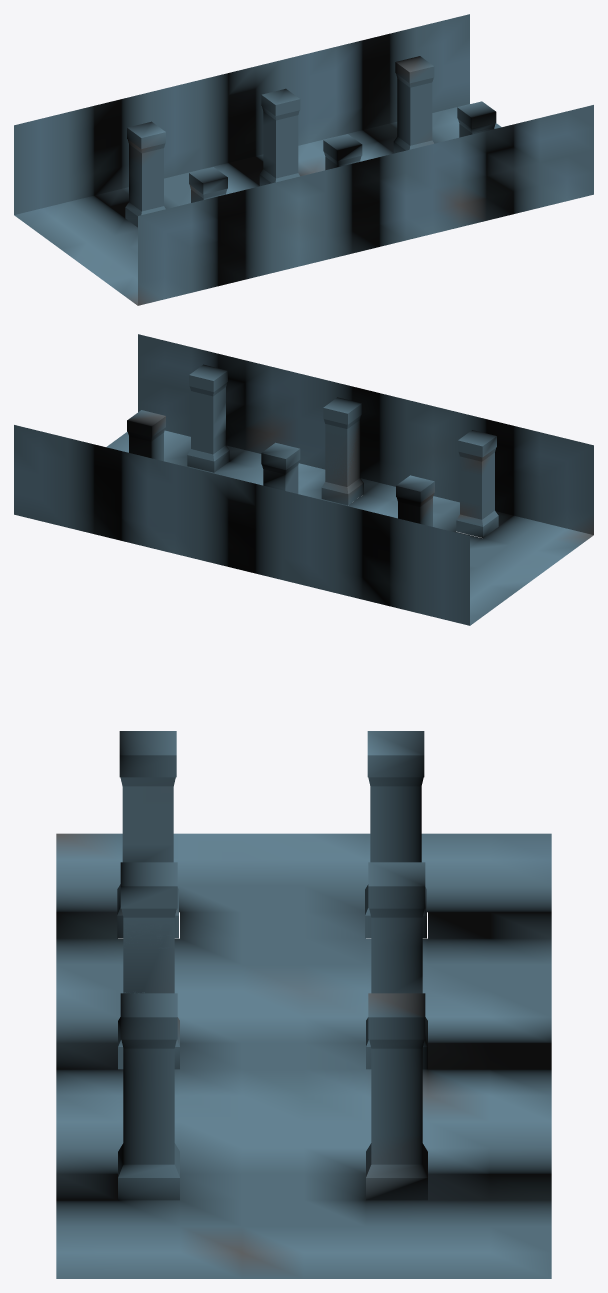
The model's file is test_hall.fbx.
3 views of the same model, one above another, from view 1: azimuth 30°, elevation 25°; view 2: azimuth 150°, elevation 25°; view 3: azimuth 270°, elevation 25° (orthographic). The views are drawn at different scales.
Parts seen in each view (by area): view 1: Grid; view 2: Grid; view 3: Grid.
Part boxes in pixels (x1,y1,x2,y2): Grid: (14, 14, 593, 305); Grid: (14, 334, 593, 625); Grid: (56, 731, 551, 1278).
Bounding box in the file's own units: 4.25 × 0.8102 × 2.
